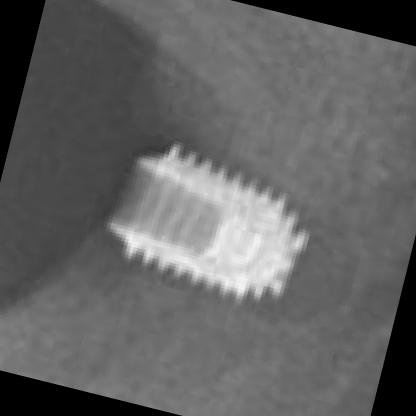Bicon: (95, 123, 328, 325)
